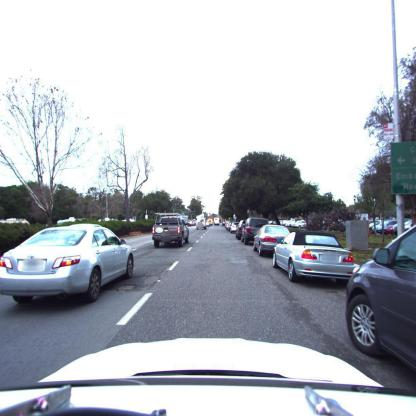car: (346, 212, 416, 398), (1, 223, 137, 305), (270, 231, 358, 284), (152, 215, 191, 248), (253, 225, 292, 256), (241, 219, 270, 245), (383, 219, 413, 236), (227, 221, 238, 233)
